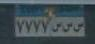7: (41, 19, 50, 32), (16, 19, 25, 32), (33, 19, 41, 32), (25, 19, 32, 32)
seen: (62, 23, 73, 33), (52, 23, 62, 32), (73, 23, 83, 31)
